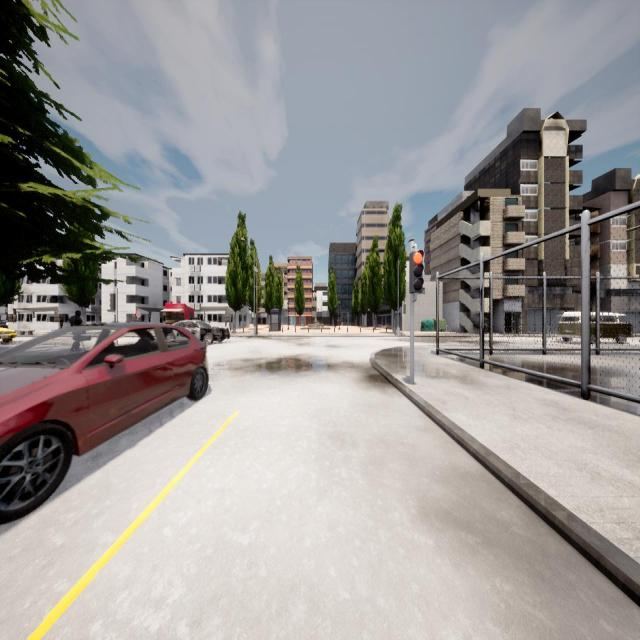Pedestrian: (69, 310, 83, 327)
Traffic_Signs: (135, 311, 141, 318)
Vehicle: (0, 323, 208, 518), (557, 311, 632, 342), (174, 321, 230, 344), (0, 323, 16, 342)
traffic_light: (411, 252, 423, 293)
